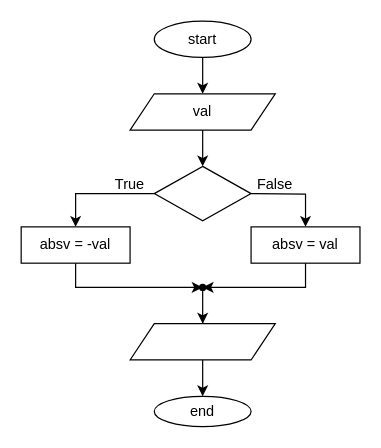
Some shapes in this 381 by 448 pixel diagram are drawn without their labels. The centre of each missing label's shape, as x and y in pixels:
absv: point (202, 341)
val < 0: point (202, 193)
